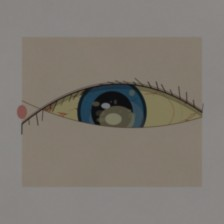corneal_ulcer: (88, 96, 146, 143)
